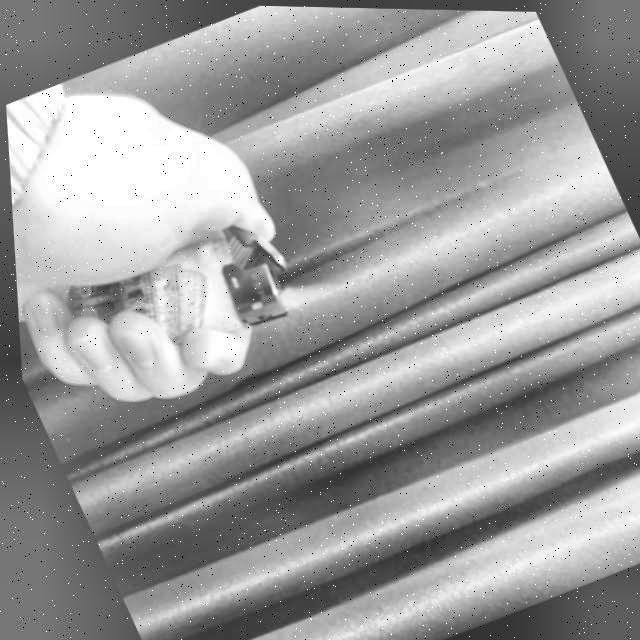Fire: (271, 265, 341, 315)
